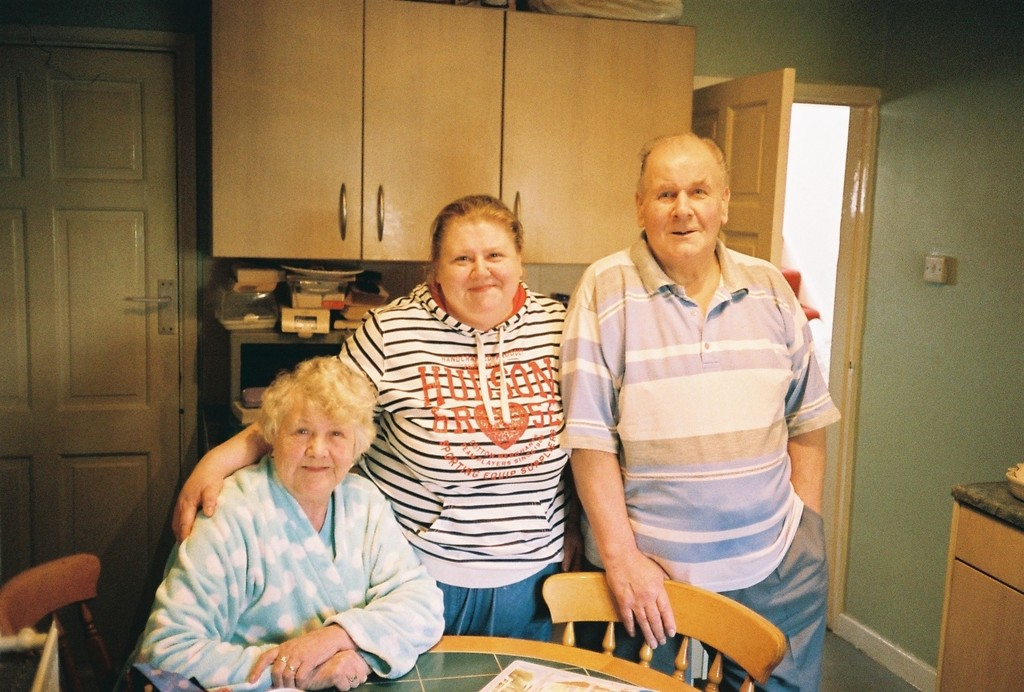Human_hand: (600, 525, 679, 644), (248, 626, 349, 691), (171, 452, 230, 543), (303, 647, 371, 691)
